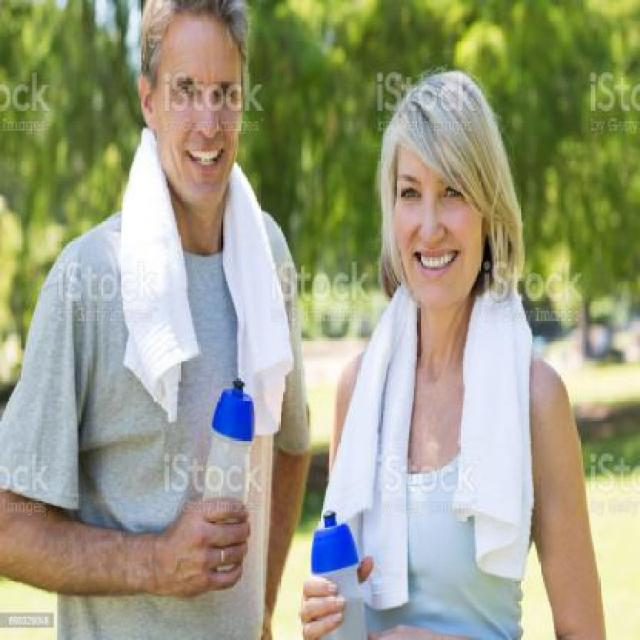Drinking: (198, 353, 258, 576), (298, 490, 378, 639)
